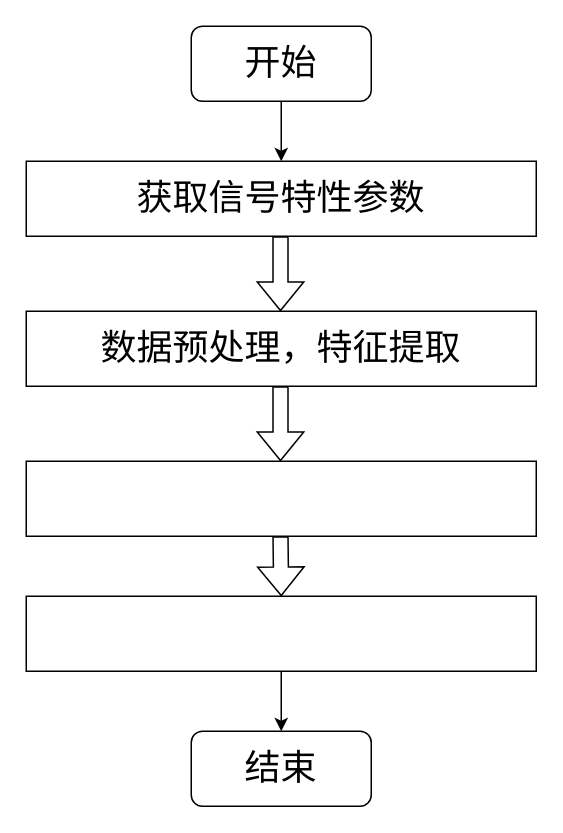
Image size: 563x833. Some labels were removed from this diagram. Each missing label, with the box of its shape:
本课题算法计算鉴定: (25, 460, 536, 536)
输出毒品信号检测结果: (25, 595, 536, 671)
